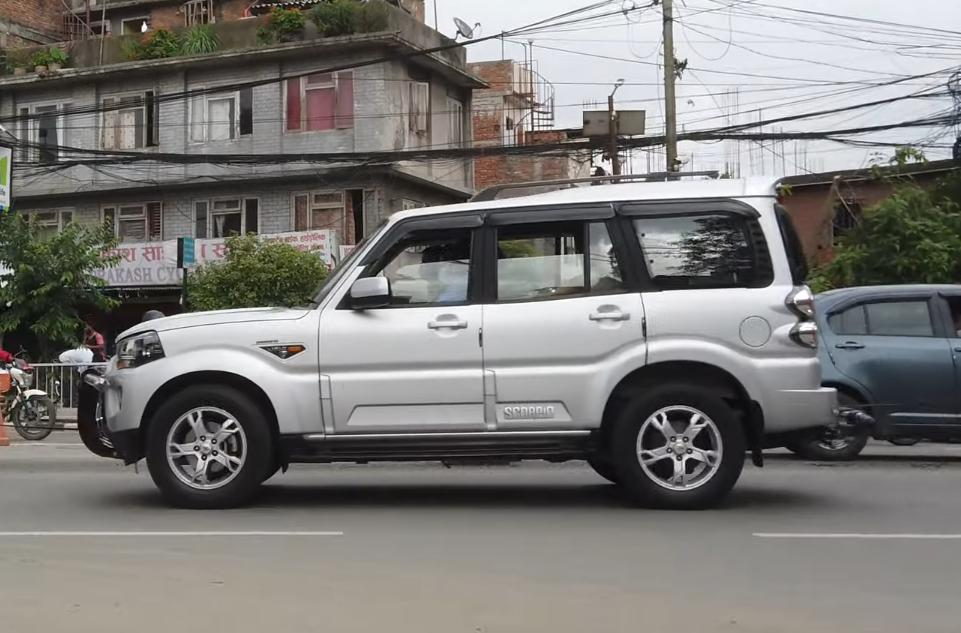SUV: (58, 135, 846, 518)
car: (794, 275, 961, 460)
